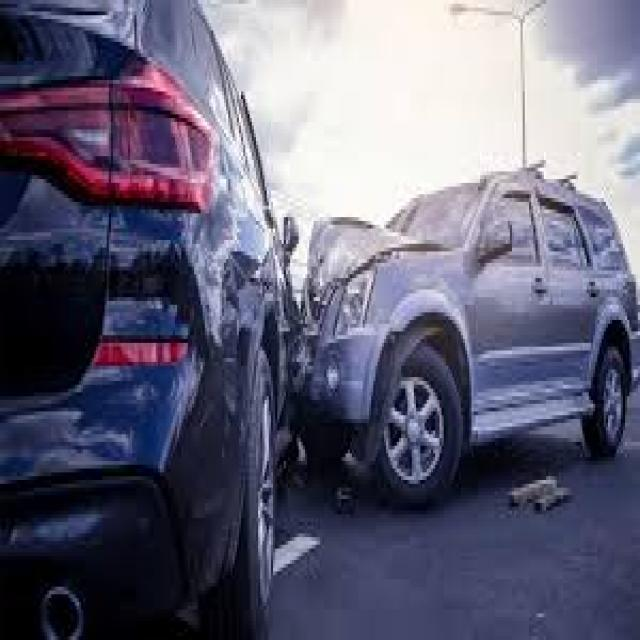accident: (161, 26, 483, 528)
